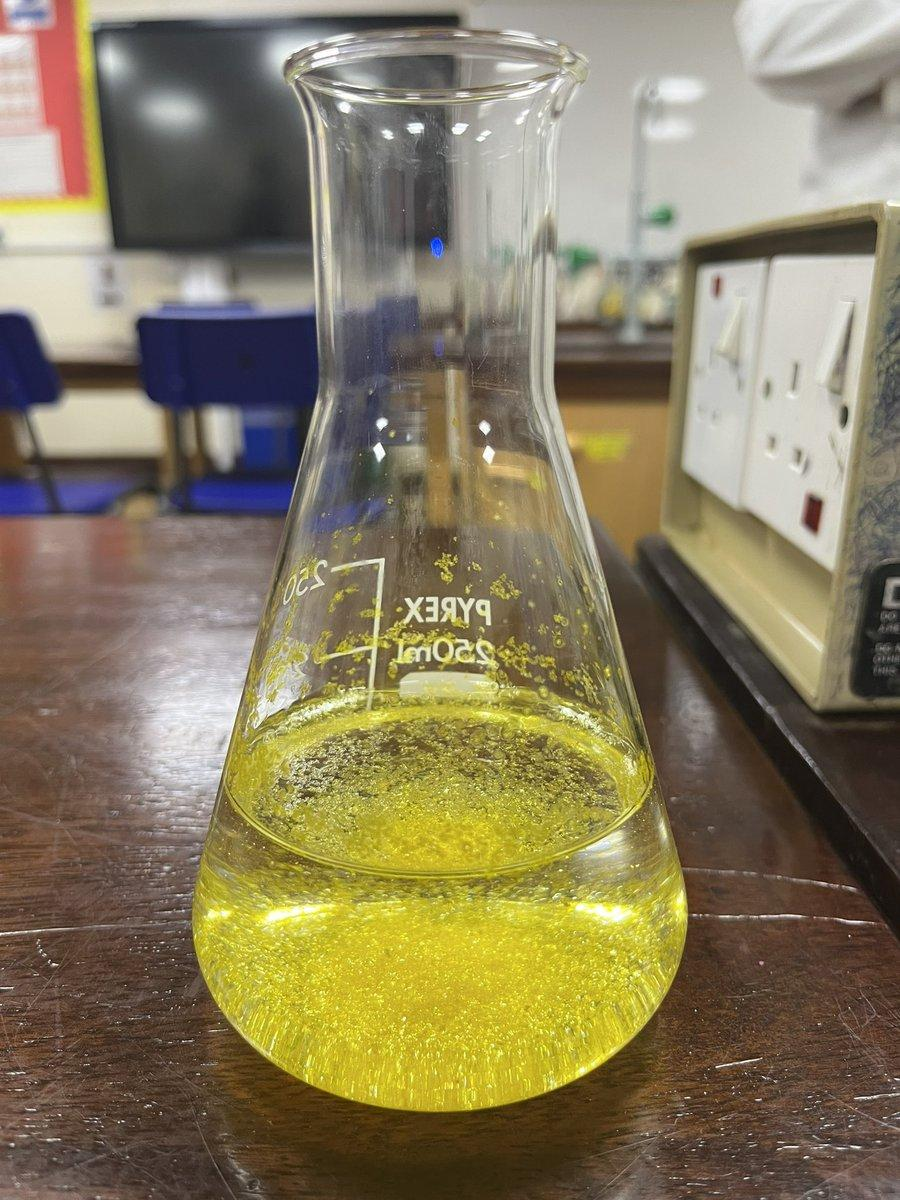Titrarion: (190, 36, 700, 1099)
